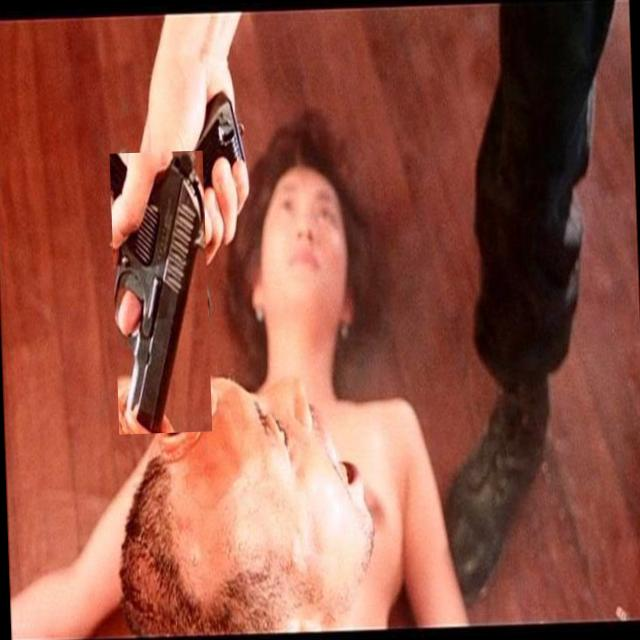Gun: (114, 151, 205, 433), (187, 93, 243, 192)
